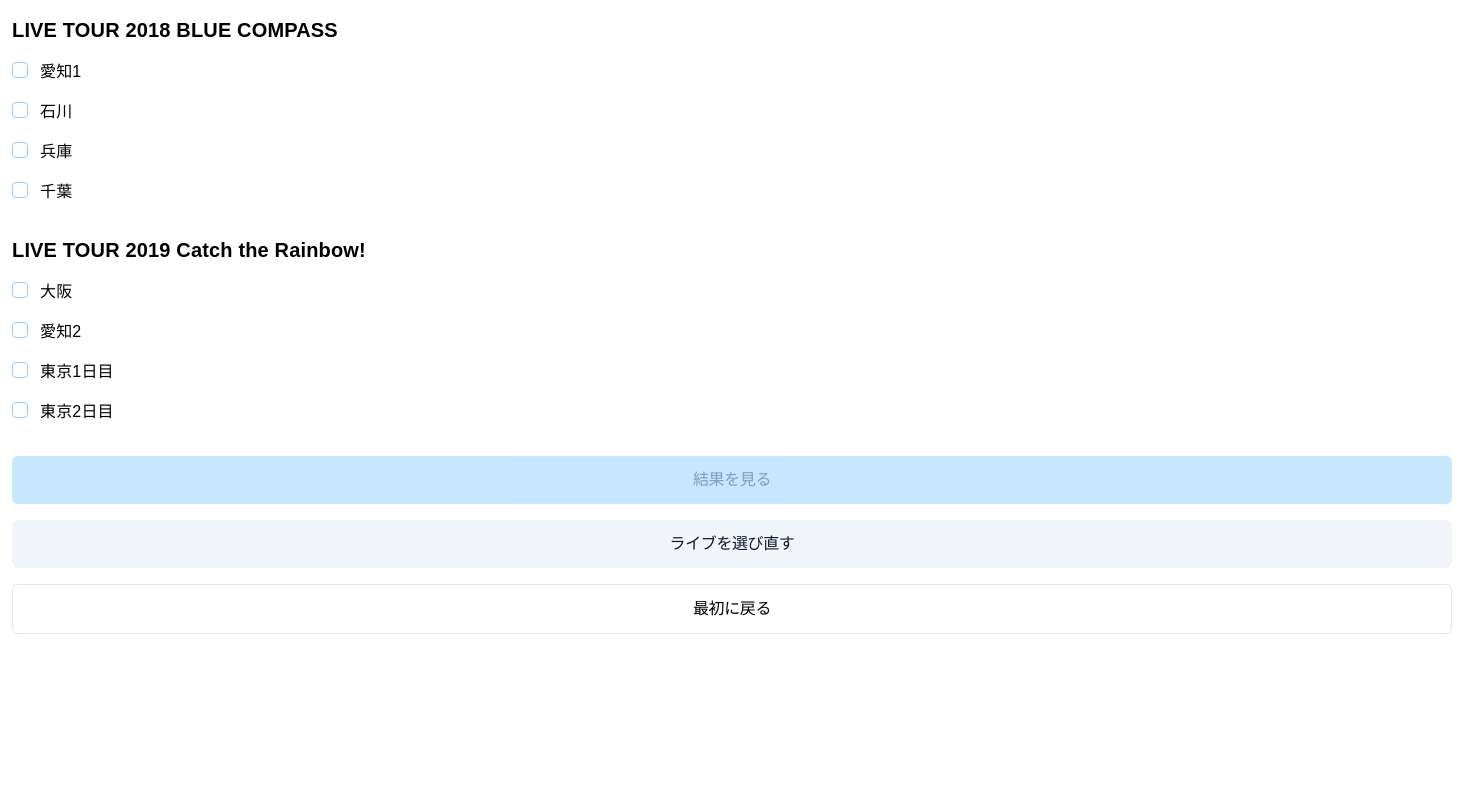
Test: LiveCheckBoxFormのテスト › チェックボックスが選択されている場合、"結果を見る"ボタンが有効化されていること
Click the checkbox named "愛知1" next to "愛知1" at x=20, y=70, box 12,62 -> 28,78
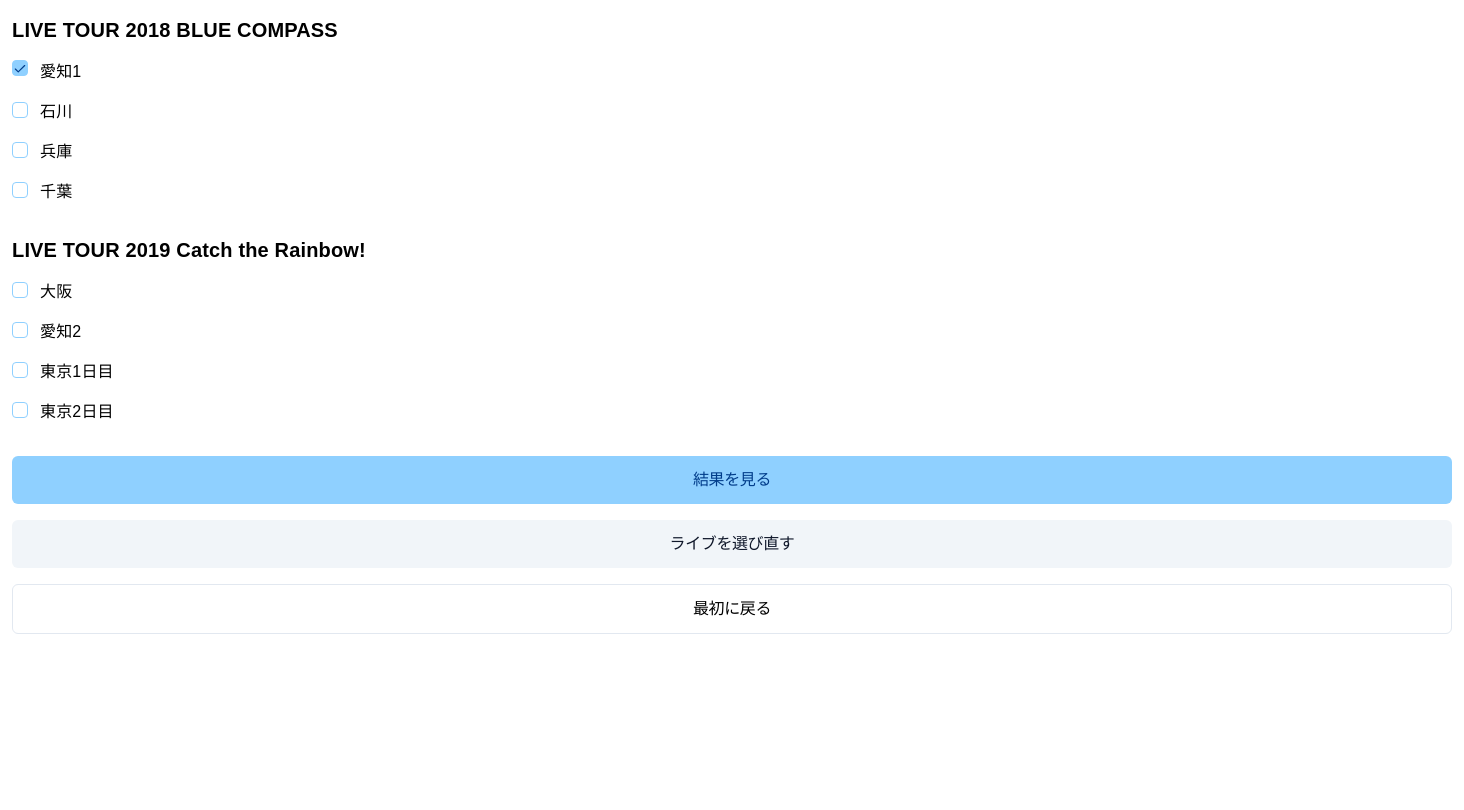
Check: the button "結果を見る" is enabled, box 12,456 -> 1452,504
